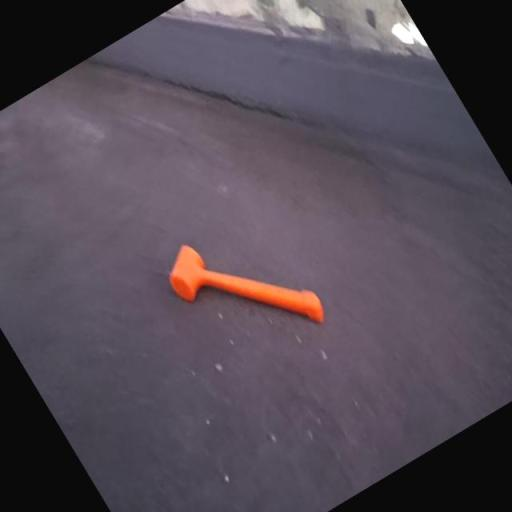mallet: (159, 200, 328, 375)
